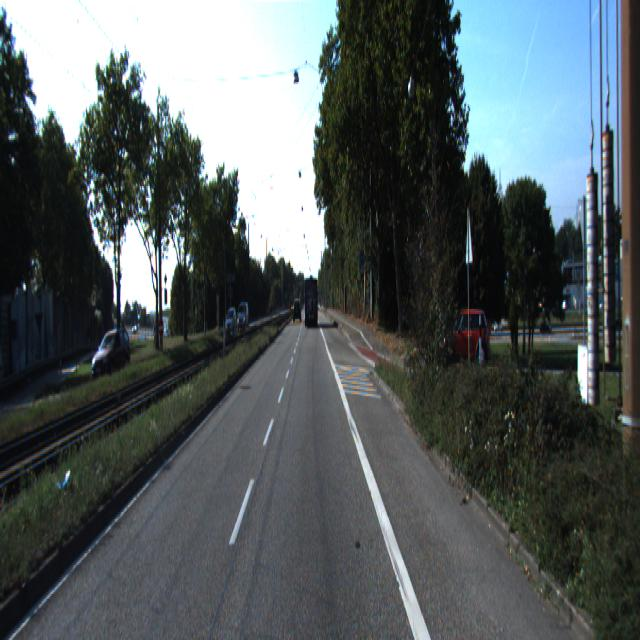Car: (441, 304, 491, 365), (90, 328, 133, 379), (304, 276, 319, 328)
